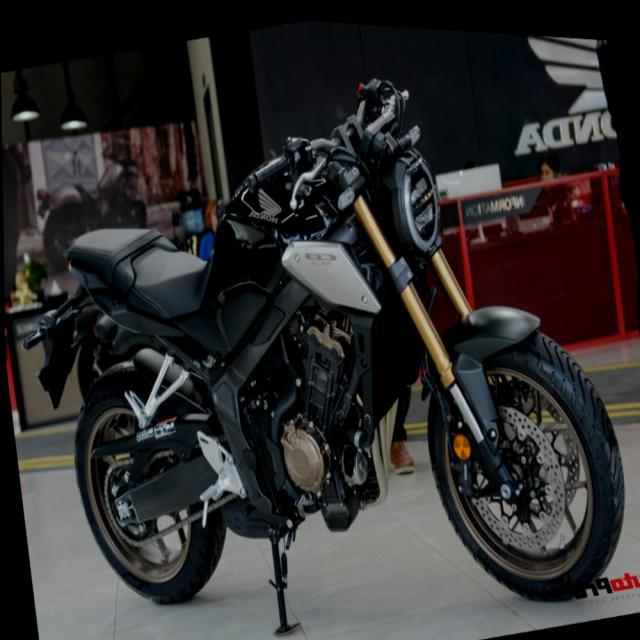CB650R: (34, 39, 638, 639)
